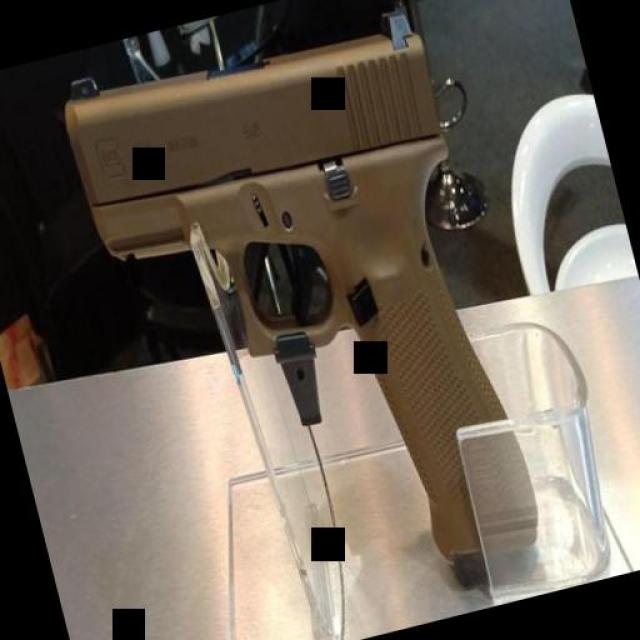gun: (46, 0, 555, 639)
